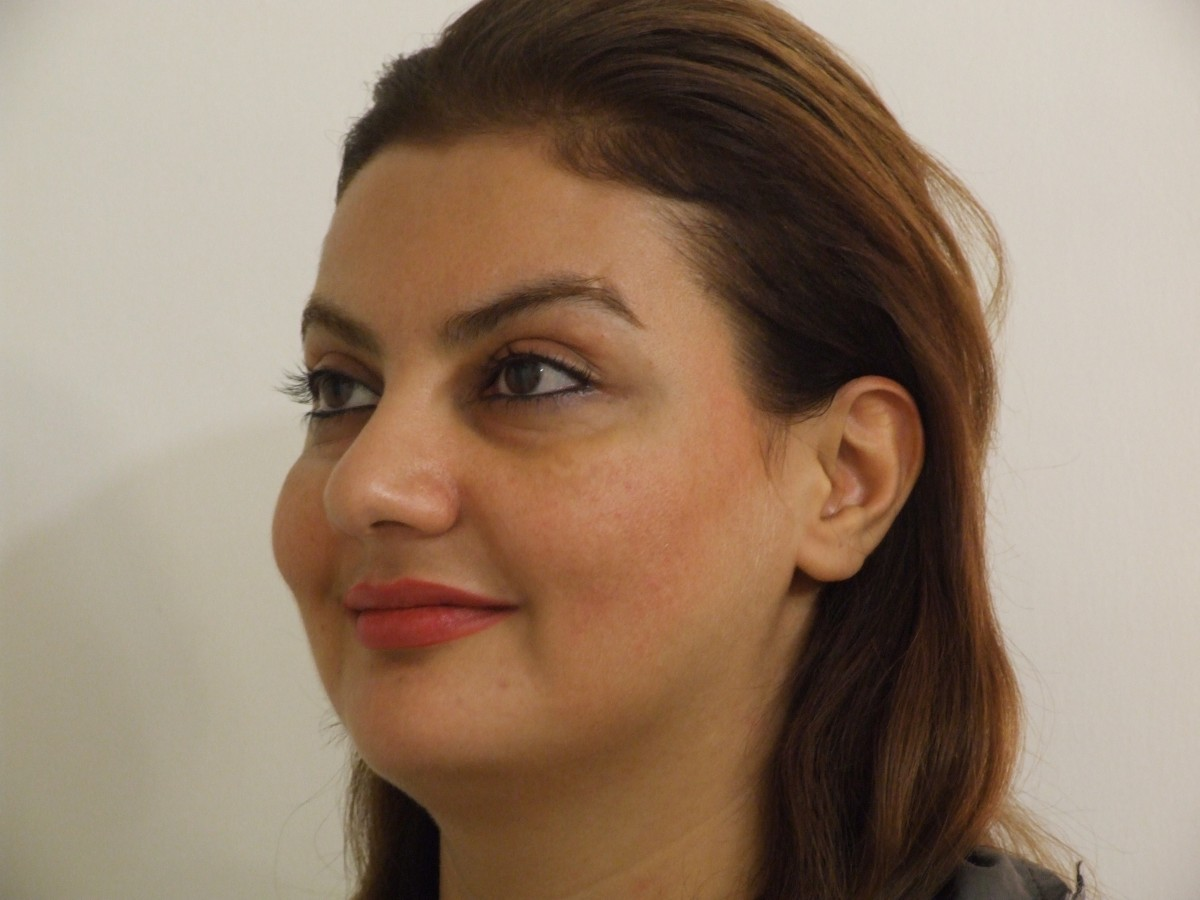neo: (375, 668, 427, 699)
occhiaia: (459, 395, 678, 470)
